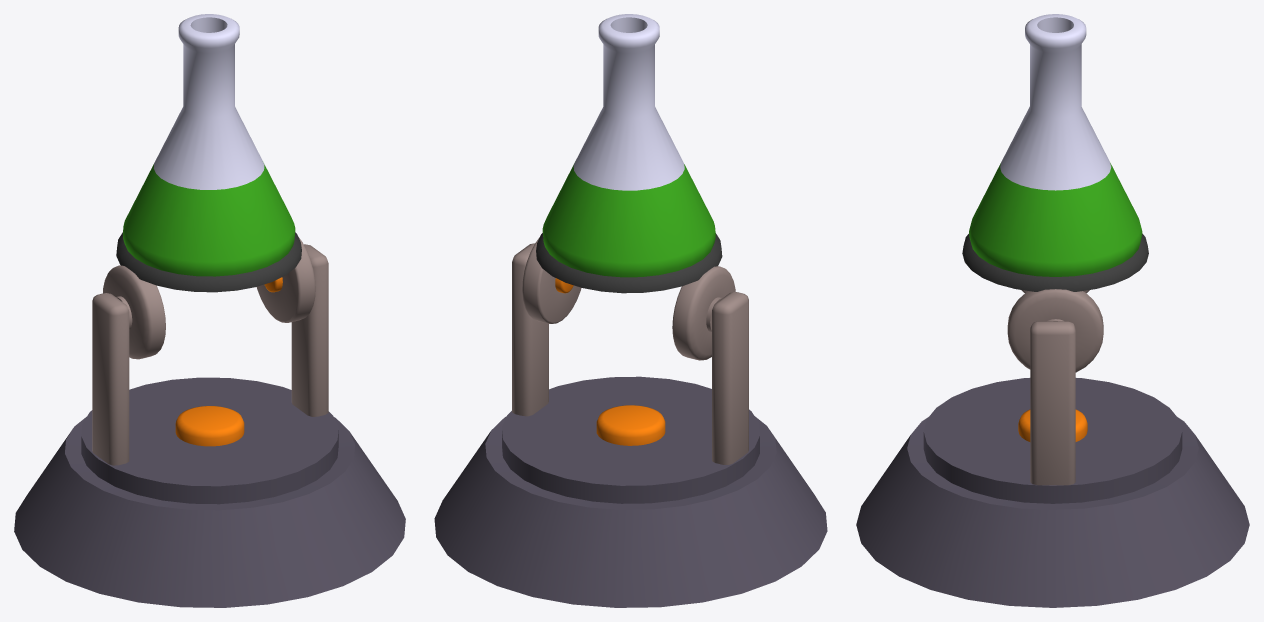
The model's file is Laba.fbx.
The picture shows the model from 3 angles, left to right: view 1: azimuth 30°, elevation 25°; view 2: azimuth 150°, elevation 25°; view 3: azimuth 270°, elevation 25°; orthographic projection.
Visible parts, largest first — view 1: Cylinder.001, flask, Cylinder; view 2: Cylinder.001, flask, Cylinder; view 3: Cylinder.001, flask, Cylinder.
Boxes of the visible parts, x1=… form: Cylinder.001: x1=14, y1=377, x2=405, y2=607; flask: x1=116, y1=14, x2=301, y2=292; Cylinder: x1=92, y1=237, x2=328, y2=465; Cylinder.001: x1=434, y1=376, x2=827, y2=607; flask: x1=536, y1=14, x2=722, y2=293; Cylinder: x1=512, y1=237, x2=748, y2=464; Cylinder.001: x1=856, y1=378, x2=1249, y2=607; flask: x1=962, y1=14, x2=1148, y2=291; Cylinder: x1=1007, y1=289, x2=1103, y2=485.
Bounding box in the file's own units: 38.04 × 53.31 × 38.04.
